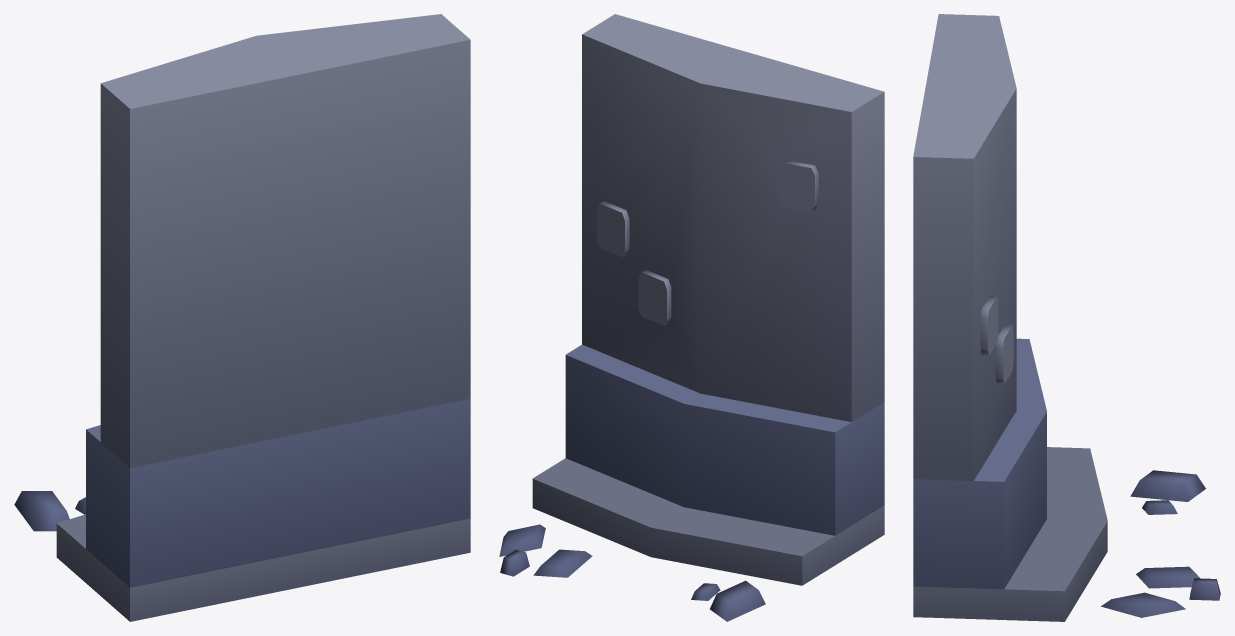
The model's file is template-wall.010.003_lev1.glb.
3 views of the same model, side by side, from view 1: azimuth 30°, elevation 25°; view 2: azimuth 150°, elevation 25°; view 3: azimuth 270°, elevation 25° (orthographic). The views are drawn at different scales.
Visible parts, largest first — view 1: template-wall.010.003_lev1; view 2: template-wall.010.003_lev1; view 3: template-wall.010.003_lev1.
Boxes of the visible parts, box(x1,y1,x2,y2) form: template-wall.010.003_lev1: box(14, 14, 470, 621); template-wall.010.003_lev1: box(499, 14, 884, 621); template-wall.010.003_lev1: box(913, 14, 1220, 621).
Bounding box in the file's own units: 4.3 × 6.25 × 3.79.
1 material, 1 textured.
